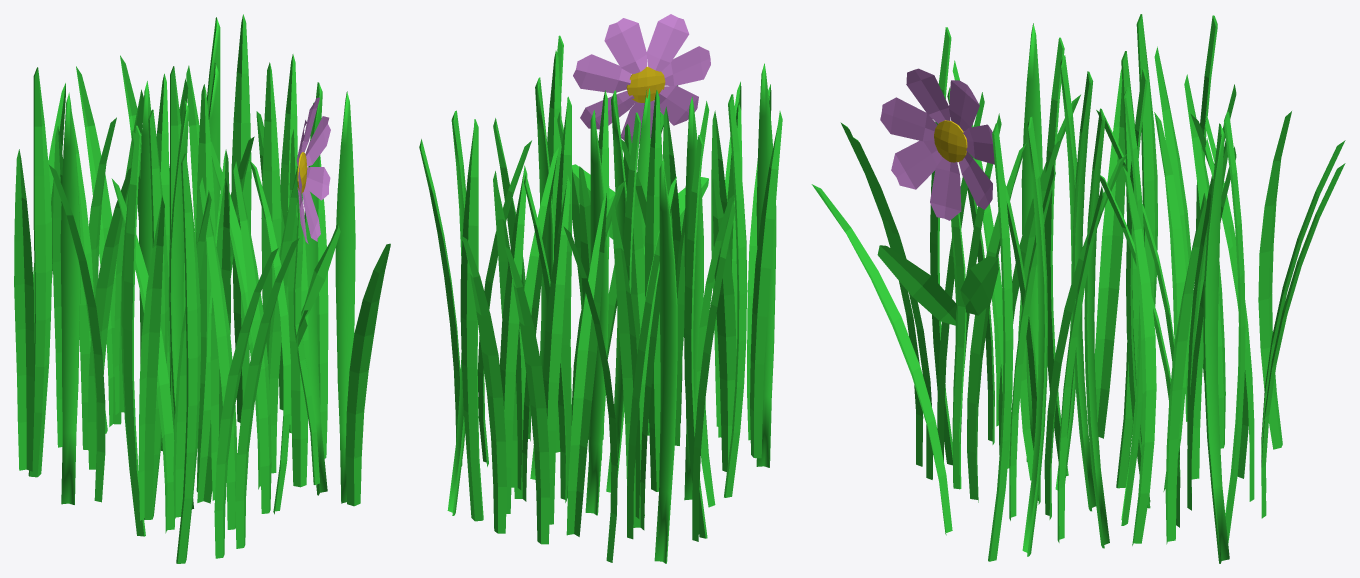
The model's file is grass.fbx.
The picture shows the model from 3 angles, left to right: view 1: azimuth 30°, elevation 25°; view 2: azimuth 150°, elevation 25°; view 3: azimuth 270°, elevation 25°; orthographic projection. The views are drawn at different scales.
Parts seen in each view (by area): view 1: Plane.011, Flower, Plane.005, Plane.041, Plane.012, Plane.050, Plane.054, Plane.053, Plane.034, Plane.048, Plane.029, Plane.039 (+35 smaller); view 2: Flower, Plane.005, Plane.026, Plane.022, Plane.054, Plane.020, Plane.025, Plane.013, Plane.015, Plane.053, Plane.043, Plane.050 (+33 smaller); view 3: Flower, Plane.029, Plane.052, Plane.028, Plane.041, Plane.032, Plane.035, Plane.030, Plane.034, Plane.010, Plane.047, Plane.053 (+36 smaller).
Part boxes in pixels (bbox=[...]): Plane.011: bbox=[60, 92, 80, 504]; Flower: bbox=[293, 97, 340, 484]; Plane.005: bbox=[28, 67, 52, 477]; Plane.041: bbox=[335, 91, 355, 503]; Plane.012: bbox=[14, 149, 34, 471]; Plane.050: bbox=[176, 153, 200, 563]; Plane.054: bbox=[138, 196, 164, 520]; Plane.053: bbox=[121, 125, 145, 536]; Plane.034: bbox=[345, 243, 390, 506]; Plane.048: bbox=[288, 129, 308, 487]; Plane.029: bbox=[231, 14, 251, 422]; Plane.039: bbox=[233, 161, 271, 513]; Flower: bbox=[572, 14, 710, 264]; Plane.005: bbox=[654, 158, 677, 563]; Plane.026: bbox=[460, 119, 483, 521]; Plane.022: bbox=[566, 192, 606, 536]; Plane.054: bbox=[750, 111, 782, 458]; Plane.020: bbox=[585, 110, 608, 515]; Plane.025: bbox=[461, 235, 506, 533]; Plane.013: bbox=[504, 246, 550, 544]; Plane.015: bbox=[543, 175, 570, 524]; Plane.053: bbox=[724, 94, 747, 497]; Plane.043: bbox=[712, 178, 736, 472]; Plane.050: bbox=[756, 63, 776, 467]; Flower: bbox=[877, 68, 998, 489]; Plane.029: bbox=[1203, 123, 1229, 563]; Plane.052: bbox=[1094, 69, 1125, 438]; Plane.028: bbox=[1123, 166, 1156, 545]; Plane.041: bbox=[988, 123, 1013, 561]; Plane.032: bbox=[1022, 117, 1047, 556]; Plane.035: bbox=[1084, 108, 1109, 548]; Plane.030: bbox=[1165, 193, 1206, 544]; Plane.034: bbox=[811, 184, 952, 535]; Plane.010: bbox=[1258, 111, 1291, 449]; Plane.047: bbox=[1072, 71, 1096, 511]; Plane.053: bbox=[1021, 23, 1042, 461].
Bounding box in the file's own units: 9.43 × 12.81 × 13.63.
